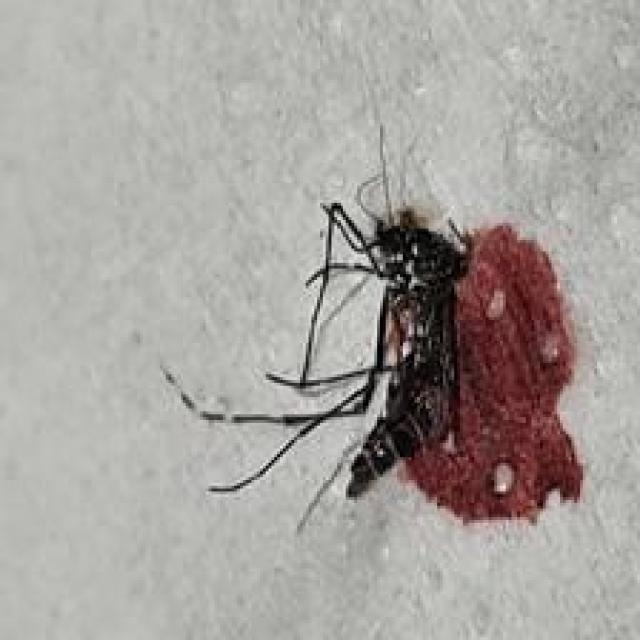Aedes albopictus: (160, 124, 586, 536)
